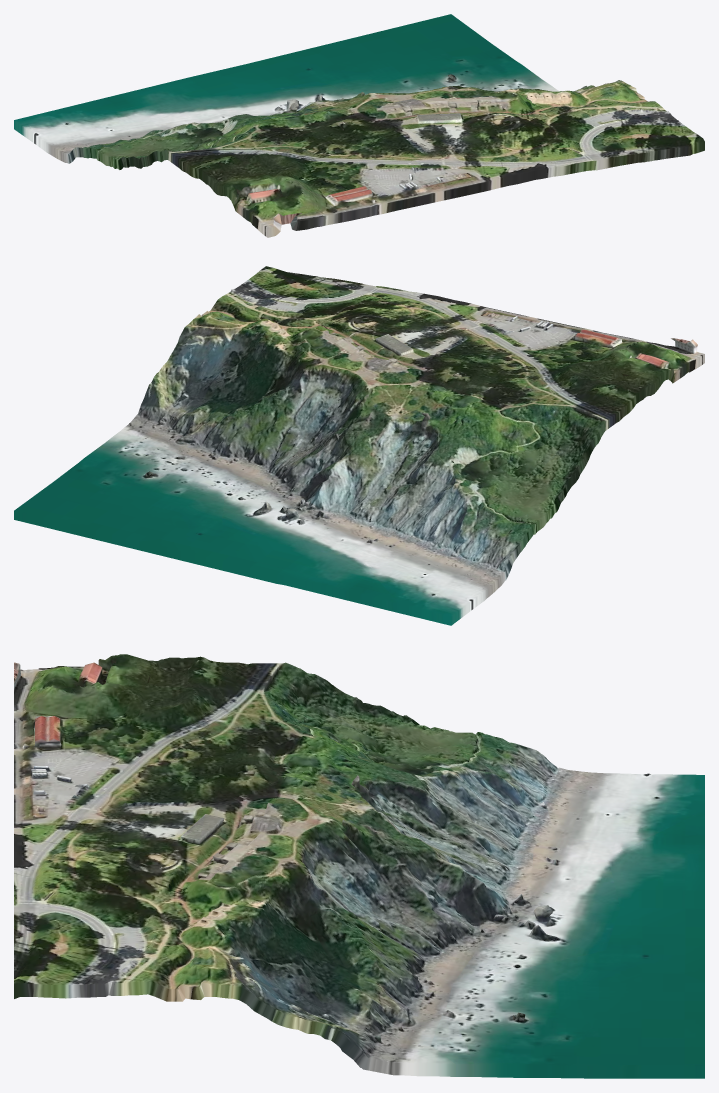
The model's file is z16-10471-25324-h0-yup-uvflip-v3-world.glb.
3 renders of one model, top to bottom at view 1: azimuth 30°, elevation 25°; view 2: azimuth 150°, elevation 25°; view 3: azimuth 270°, elevation 25°, orthographic. The views are drawn at different scales.
Size of the model in its own units: 483 by 107 by 485.
1 material, 1 textured.
